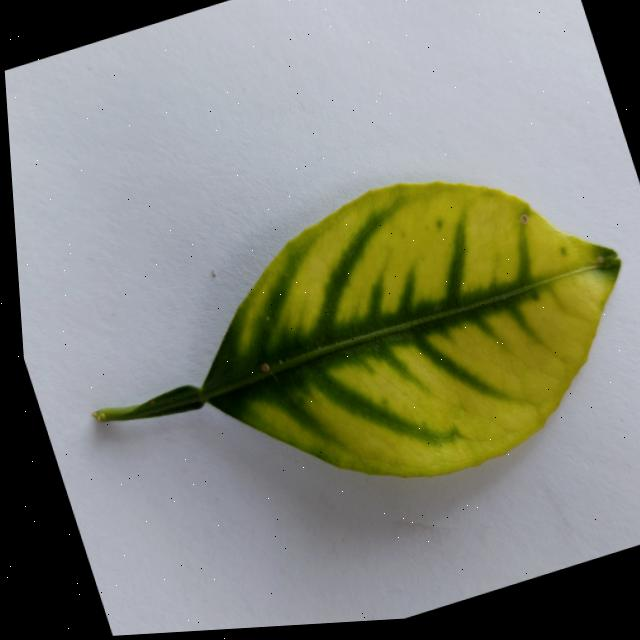greening: (93, 181, 620, 476)
